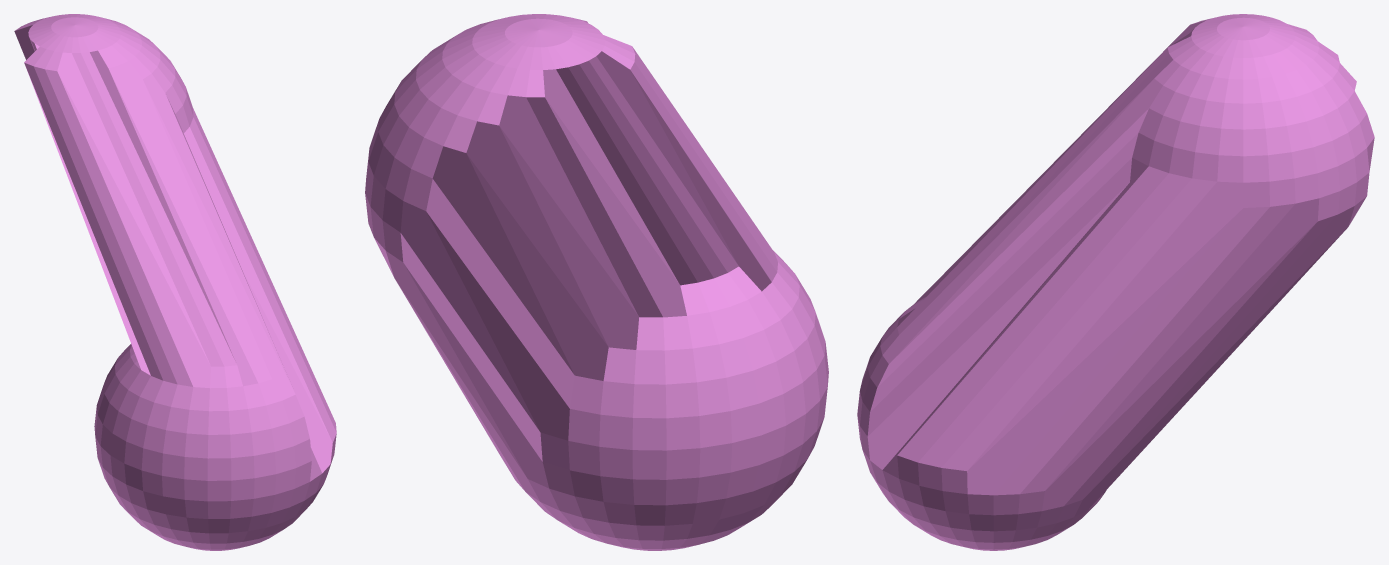
File: Prueba.glb
The picture shows the model from 3 angles, left to right: view 1: azimuth 30°, elevation 25°; view 2: azimuth 150°, elevation 25°; view 3: azimuth 270°, elevation 25°; orthographic projection. The views are drawn at different scales.
Parts seen in each view (by area): view 1: Sphere; view 2: Sphere; view 3: Sphere.
Boxes of the visible parts, <box> form: Sphere: <box>14,14,336,550</box>; Sphere: <box>365,14,828,550</box>; Sphere: <box>857,14,1374,550</box>.
Size of the model in its own units: 1.98 by 4 by 3.79.
